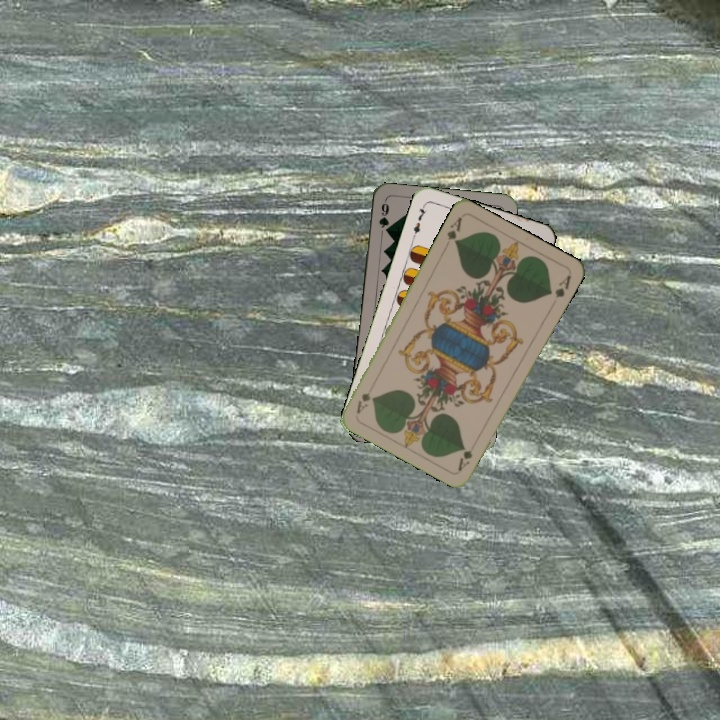E7: (409, 201, 430, 240)
G9: (375, 197, 392, 238)
GA: (454, 436, 480, 473), (443, 213, 465, 247)
